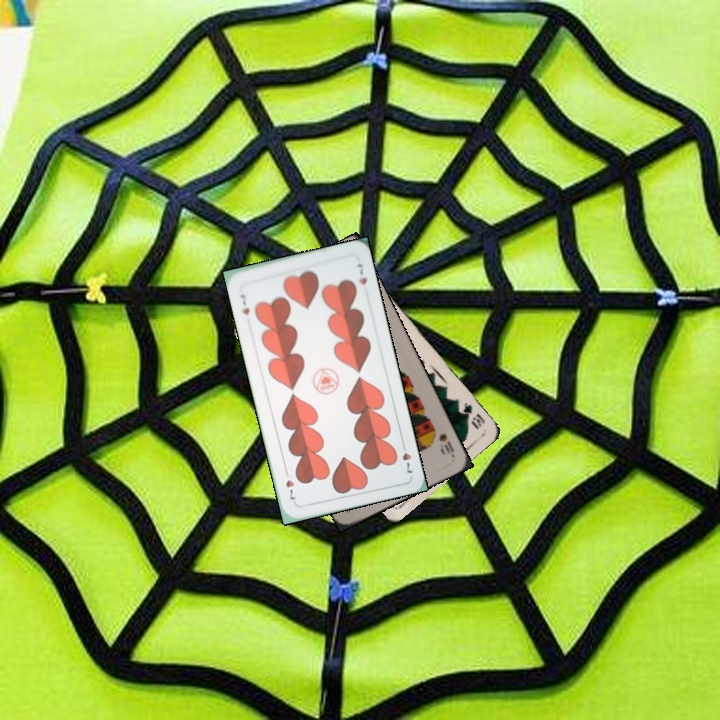G10: (459, 398, 488, 432)
H7: (397, 437, 415, 476), (236, 290, 252, 317)
S10: (435, 429, 456, 458)
